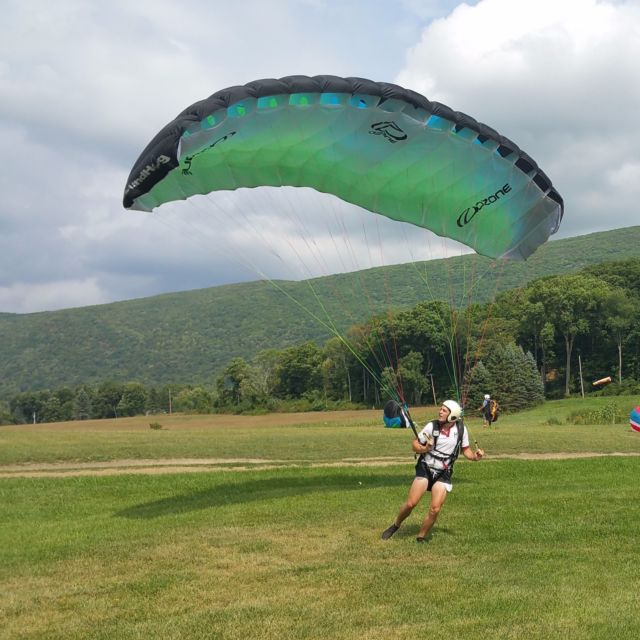Paraglider: (92, 71, 571, 263)
